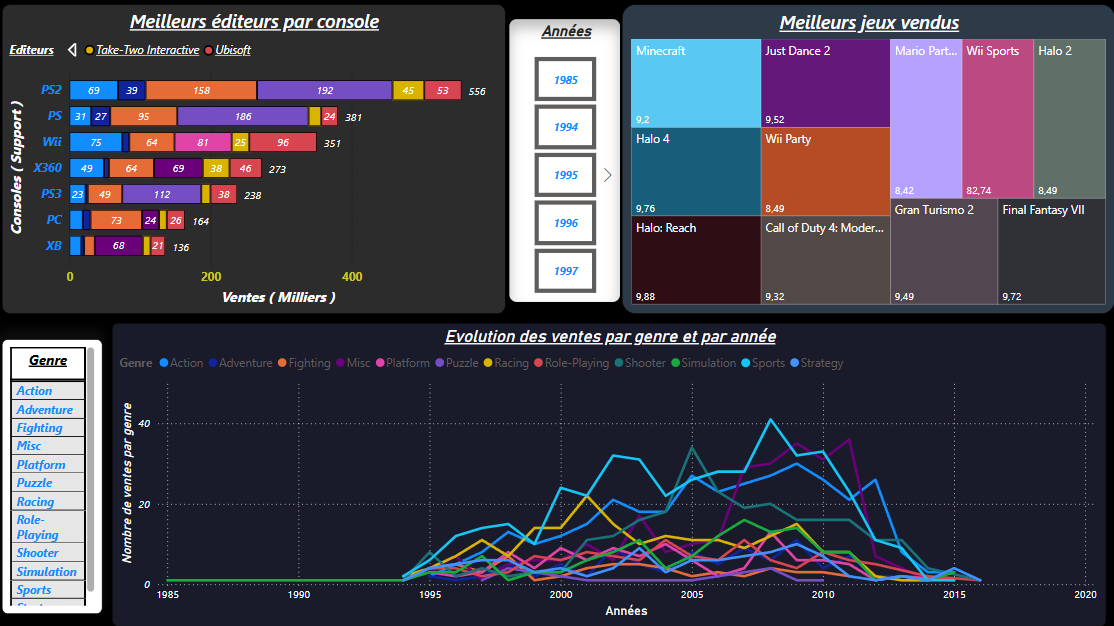

This screenshot's page, from the dashboard's own definition file:
{"tool":"powerbi","page":{"name":"Page 1","canvas":[1280,720],"ordinal":0},"visuals":[{"type":"barChart","title":"Meilleurs éditeurs par console","fields":{"Category":["df_clean.Platform"],"Y":["df_clean.Global_Sales"],"Series":["df_clean.Publisher"]},"box":[4.3,5.7,575.7,354.3],"z":0},{"type":"lineChart","title":"Evolution des ventes par genre et par année ","fields":{"Category":["df_clean.Year"],"Y":["df_clean.Global_Sales"],"Series":["df_clean.Genre"]},"box":[130,370,1137.1,347.1],"z":1000},{"type":"tableEx","fields":{"Values":["df_clean.Genre"]},"box":[3.7,389,115.3,314.1],"z":2000},{"type":"slicer","title":"Années","fields":{"Values":["df_clean.Year"]},"box":[583.1,21.1,129.6,326.8],"z":3000},{"type":"treemap","title":"Meilleurs jeux vendus","fields":{"Group":["df_clean.Name"],"Details":["df_clean.Global_Sales"],"Values":["df_clean.Year"]},"box":[712.9,5.7,564.3,354.3],"z":4000}]}

Visuals, with their boxes in screenshot pixels (x1, y1, x2, y2), scaled from the page's 1280x720 canvas onto the 1114x626 screenshot:
"Meilleurs éditeurs par console" barChart: bbox=[4, 5, 505, 313]
"Evolution des ventes par genre et par année " lineChart: bbox=[113, 322, 1103, 623]
tableEx - df_clean.Genre: bbox=[3, 338, 104, 611]
"Années" slicer: bbox=[507, 18, 620, 302]
"Meilleurs jeux vendus" treemap: bbox=[620, 5, 1112, 313]
